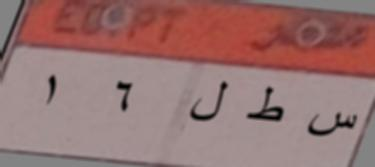1: (33, 68, 72, 107)
6: (110, 76, 145, 115)
Taa: (246, 84, 288, 132)
laam: (188, 76, 234, 126)
seen: (304, 105, 362, 140)
